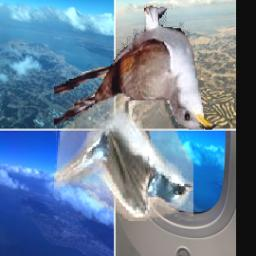Cuckoo: (53, 3, 215, 130)
Swallow: (53, 88, 192, 222)
